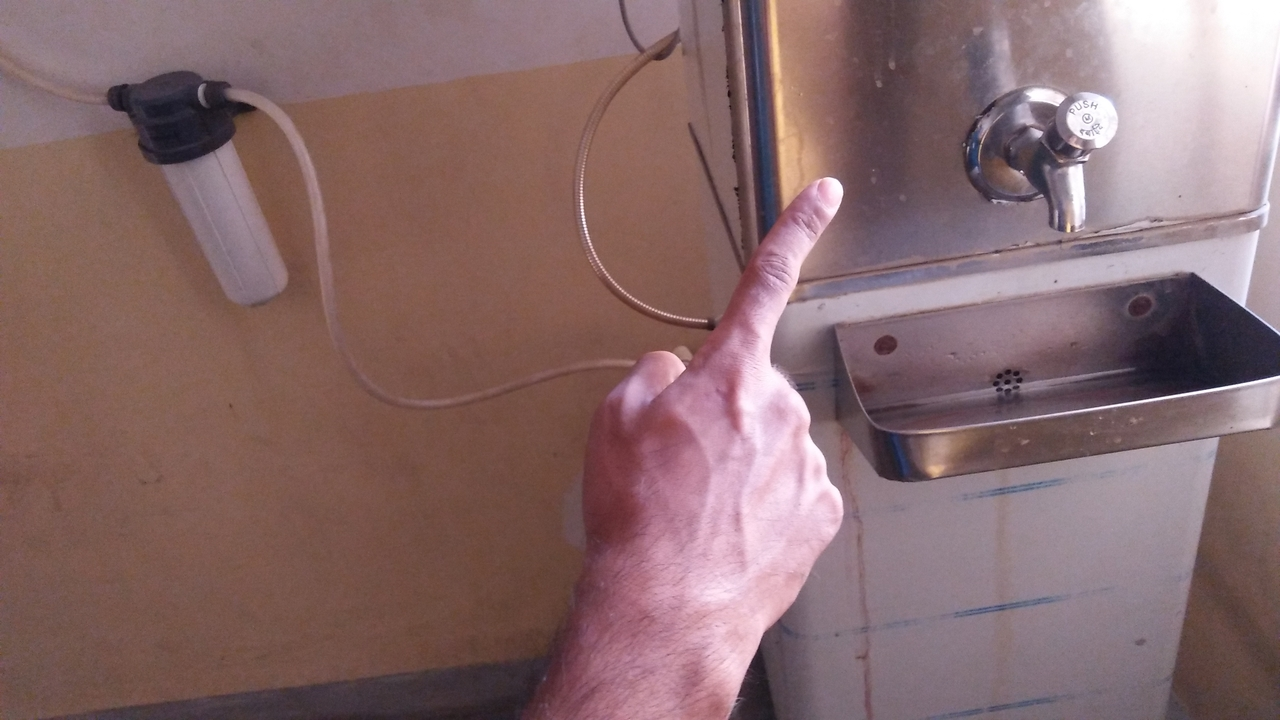fingertip: (788, 164, 854, 224)
